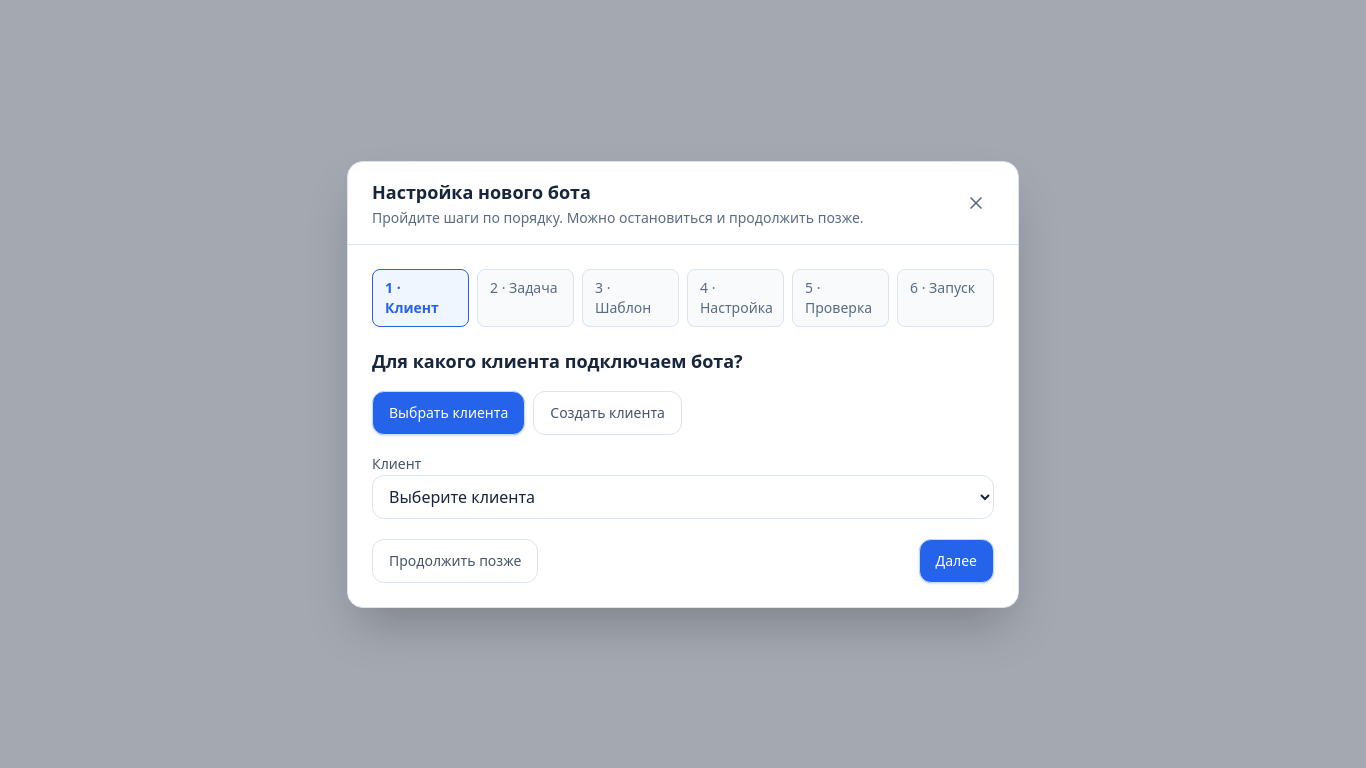
Test: Создание через мастер › позволяет настройку с нуля при ошибке каталога
Step 1. Select "Клиент (+998901234567)" in the dropdown labelled "Клиент" → coordinates (683, 496), box [372,474,994,518]
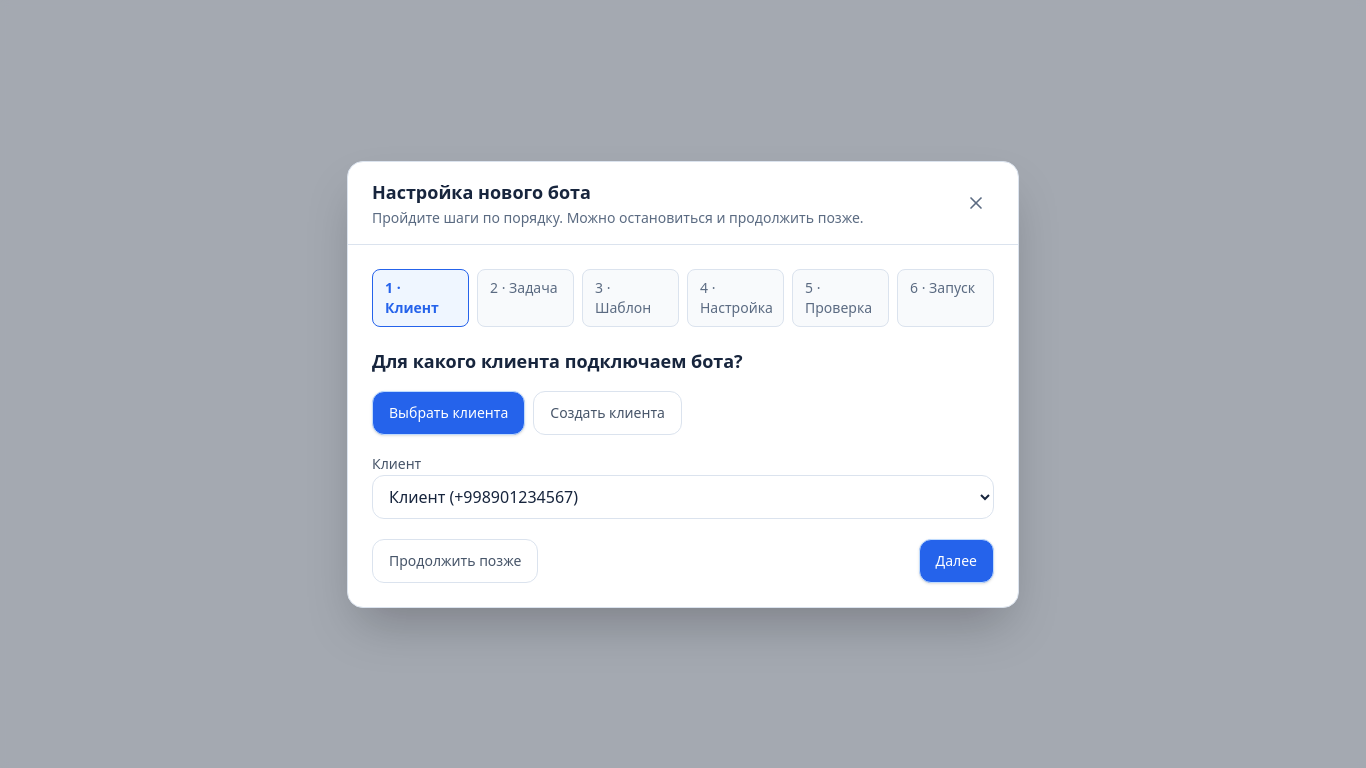
Step 2. Click the button "Далее" → coordinates (956, 560), box [919,538,994,582]
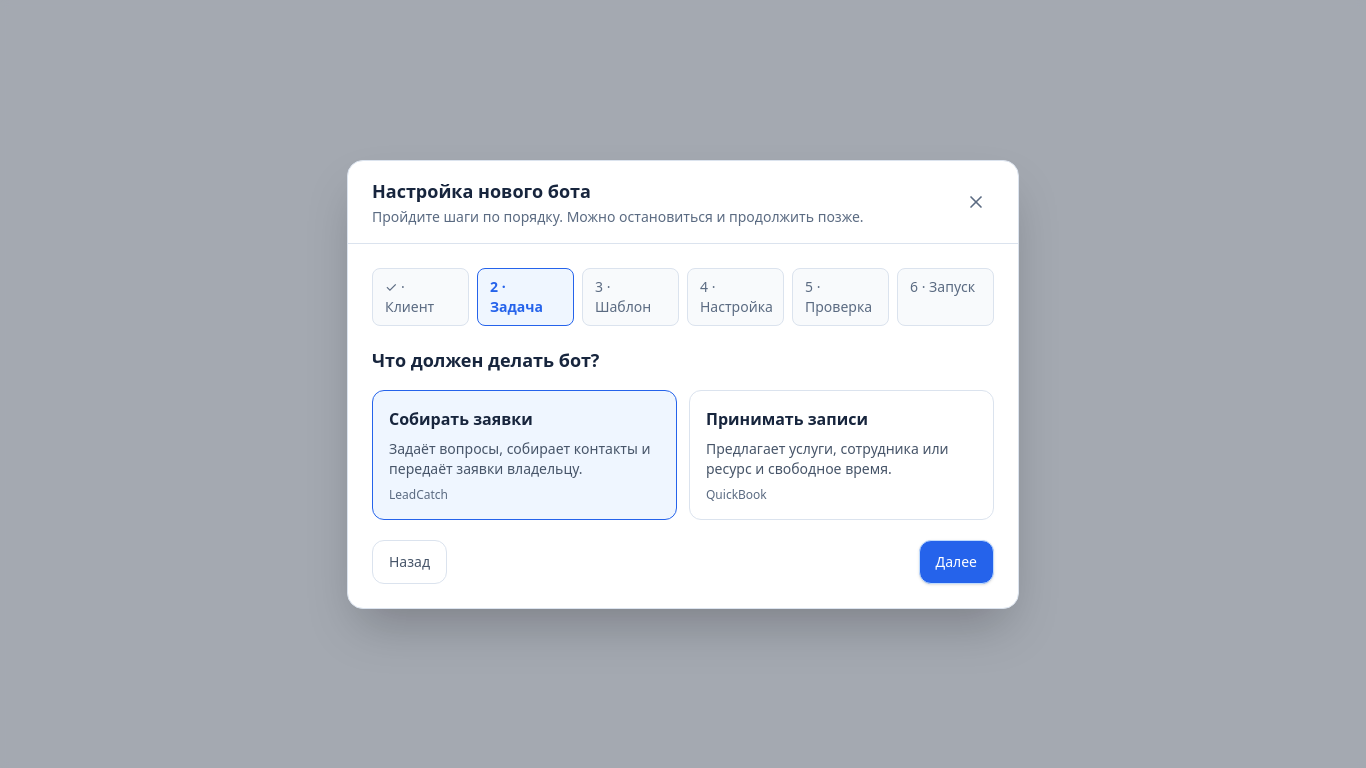
Step 3. Click the button "Далее" → coordinates (956, 562), box [919,540,994,584]
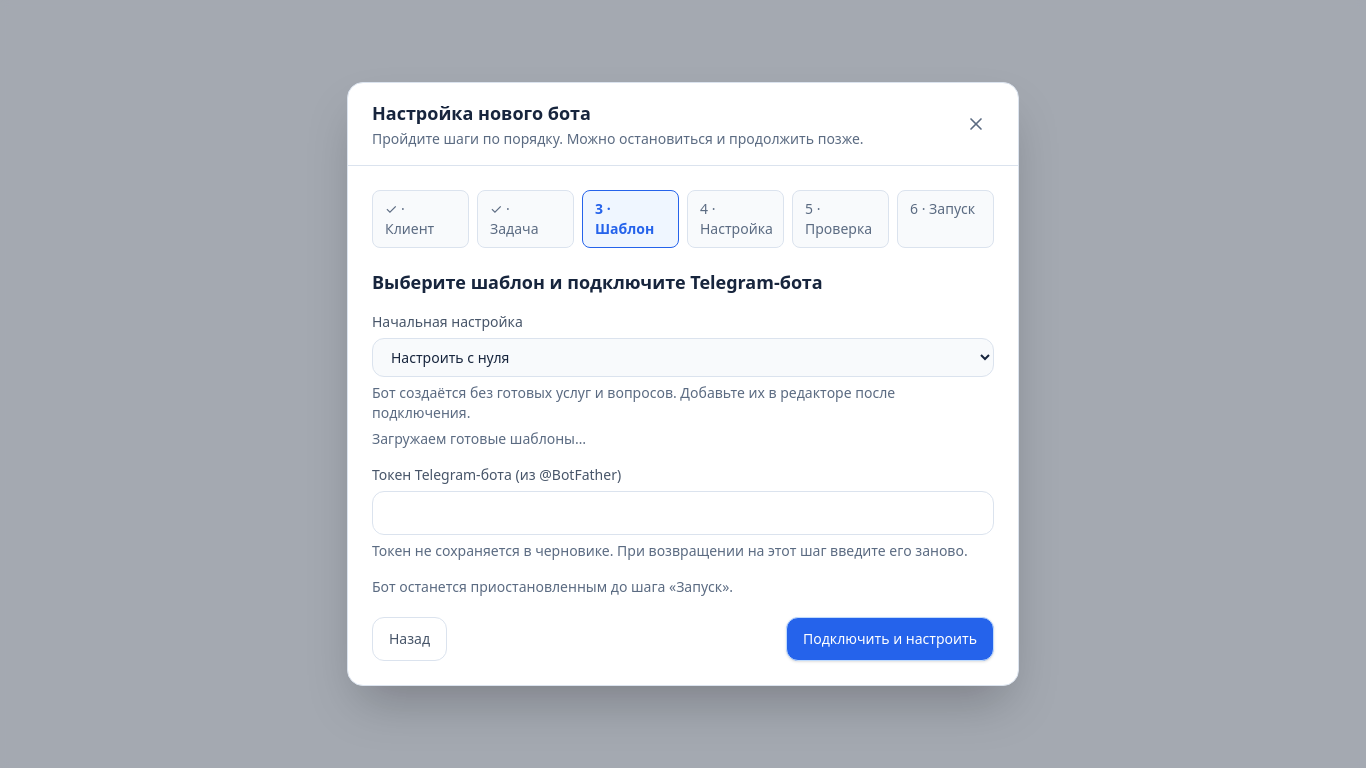
Step 4. Type "123456789:TestToken" into the password field labelled "Токен Telegram-бота (из @BotFather)" → coordinates (683, 513), box [372,491,994,535]
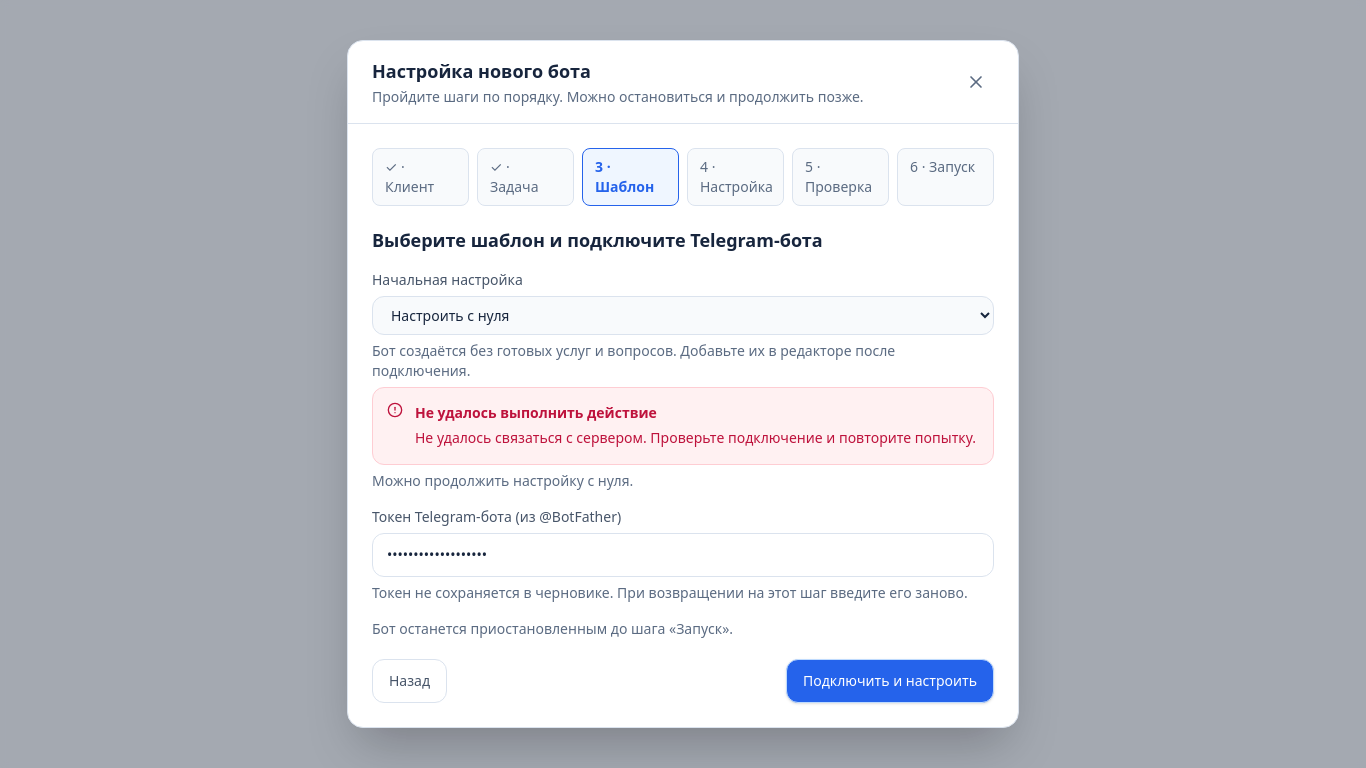
Check: the text "Можно продолжить настройку с нуля." is shown, box [372,471,633,490]
